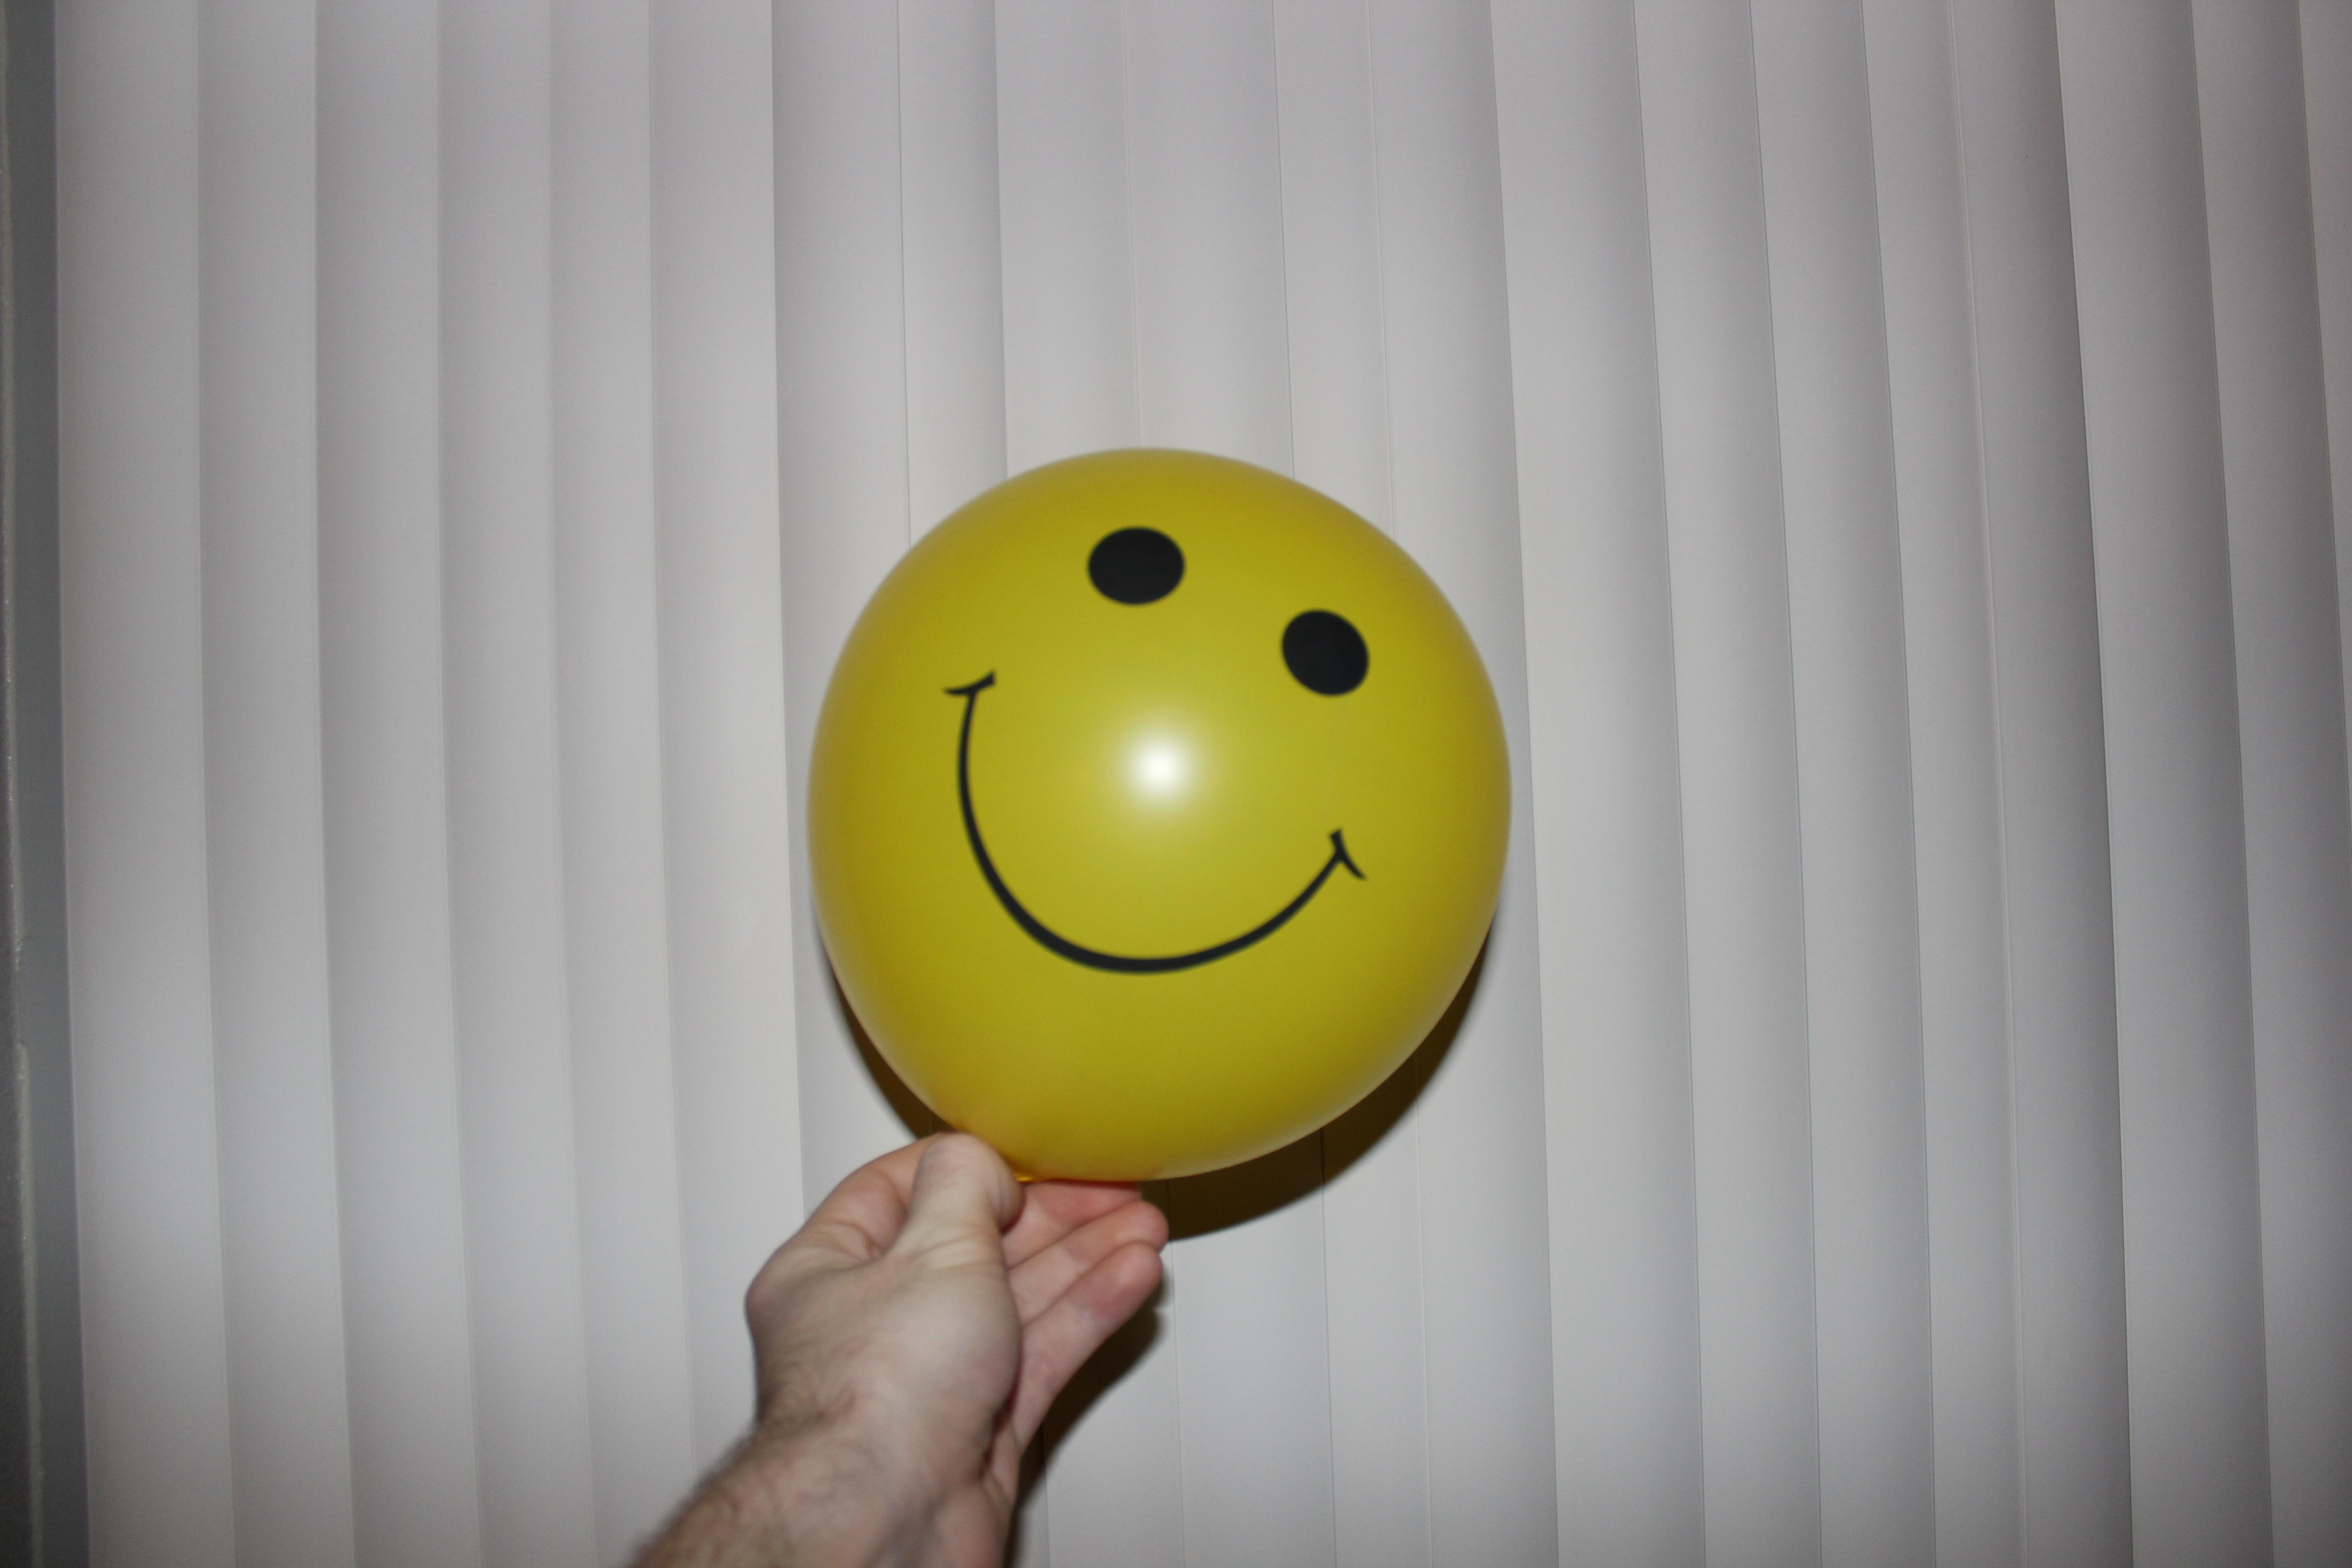yellowBalloon: (765, 408, 1549, 1218)
